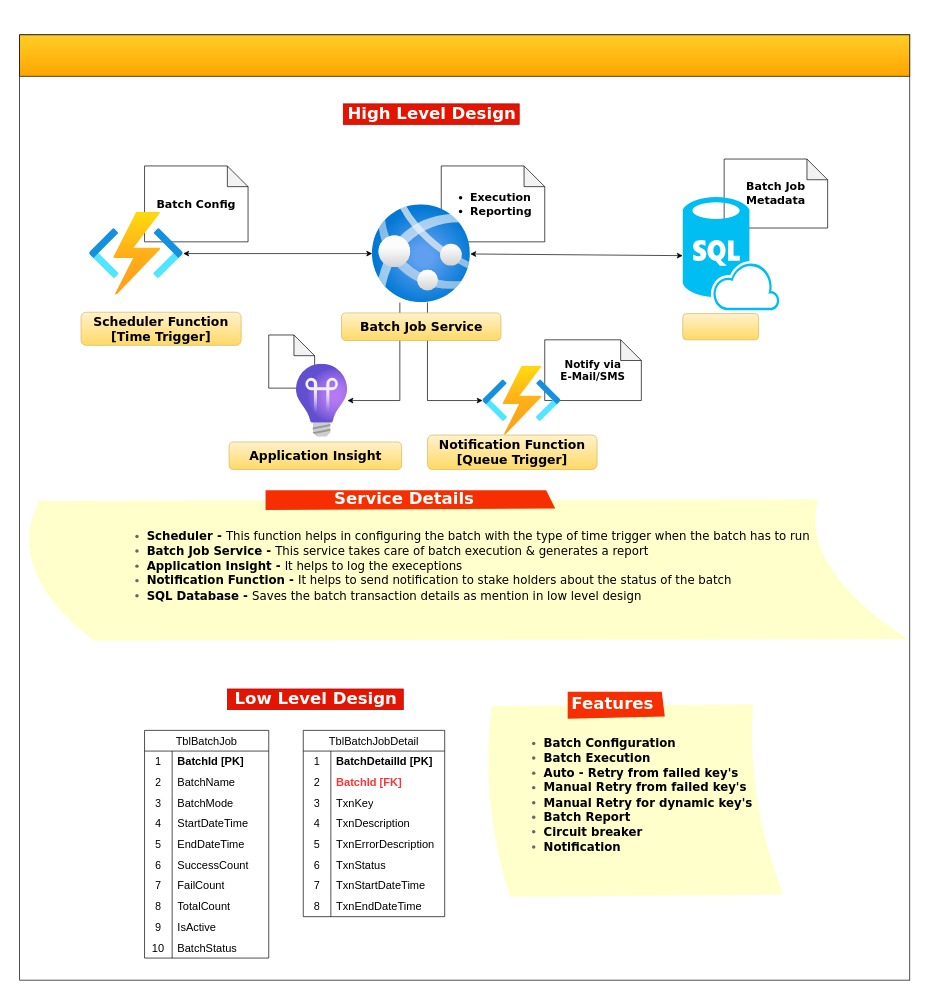
The diagram is 929 pixels wide and 992 high, and some of its shapes have lost their labels. Each missing label, with the centre of its shape:
"Batch Job Management" goes at [464,55].
"Database" goes at [720,326].
"Logs" goes at [291,361].
